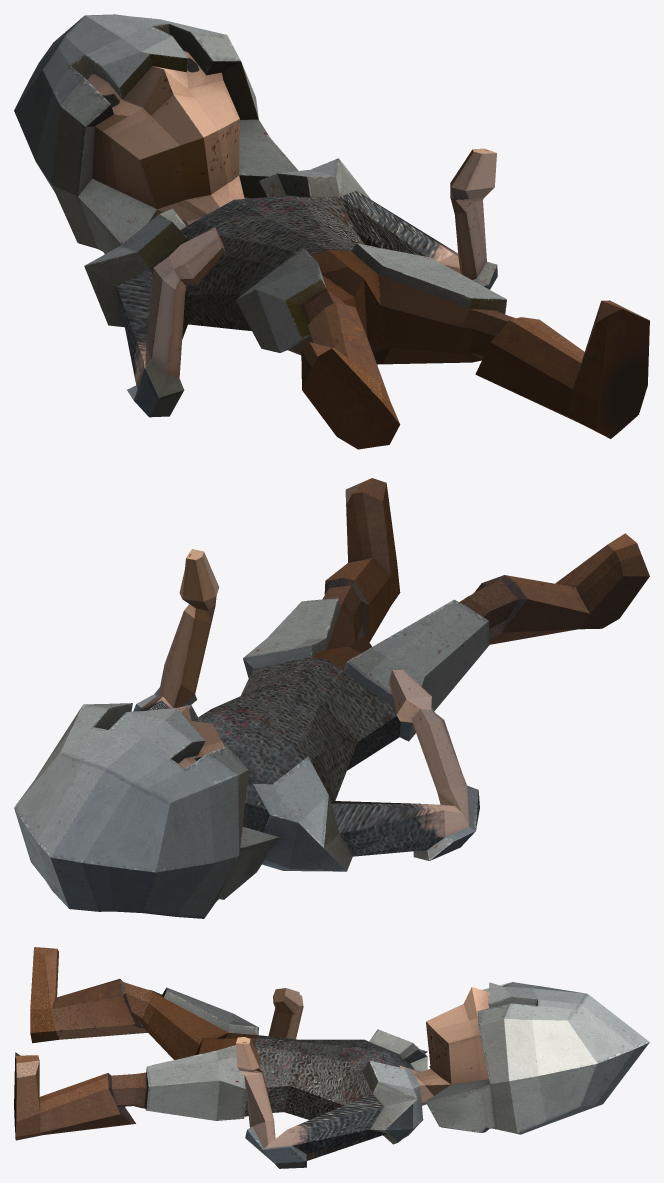
The model's file is Walk_Soldier_25.obj.
3 renders of one model, top to bottom at view 1: azimuth 30°, elevation 25°; view 2: azimuth 150°, elevation 25°; view 3: azimuth 270°, elevation 25°, orthographic. The views are drawn at different scales.
Parts seen in each view (by area): view 1: Soldado_LowPolySTD; view 2: Soldado_LowPolySTD; view 3: Soldado_LowPolySTD.
Part boxes in pixels (box(x1,y1,x2,y2)): Soldado_LowPolySTD: box(14, 14, 649, 449); Soldado_LowPolySTD: box(14, 478, 649, 918); Soldado_LowPolySTD: box(14, 947, 649, 1168).
Size of the model in its own units: 1.34 by 0.7986 by 2.96.
